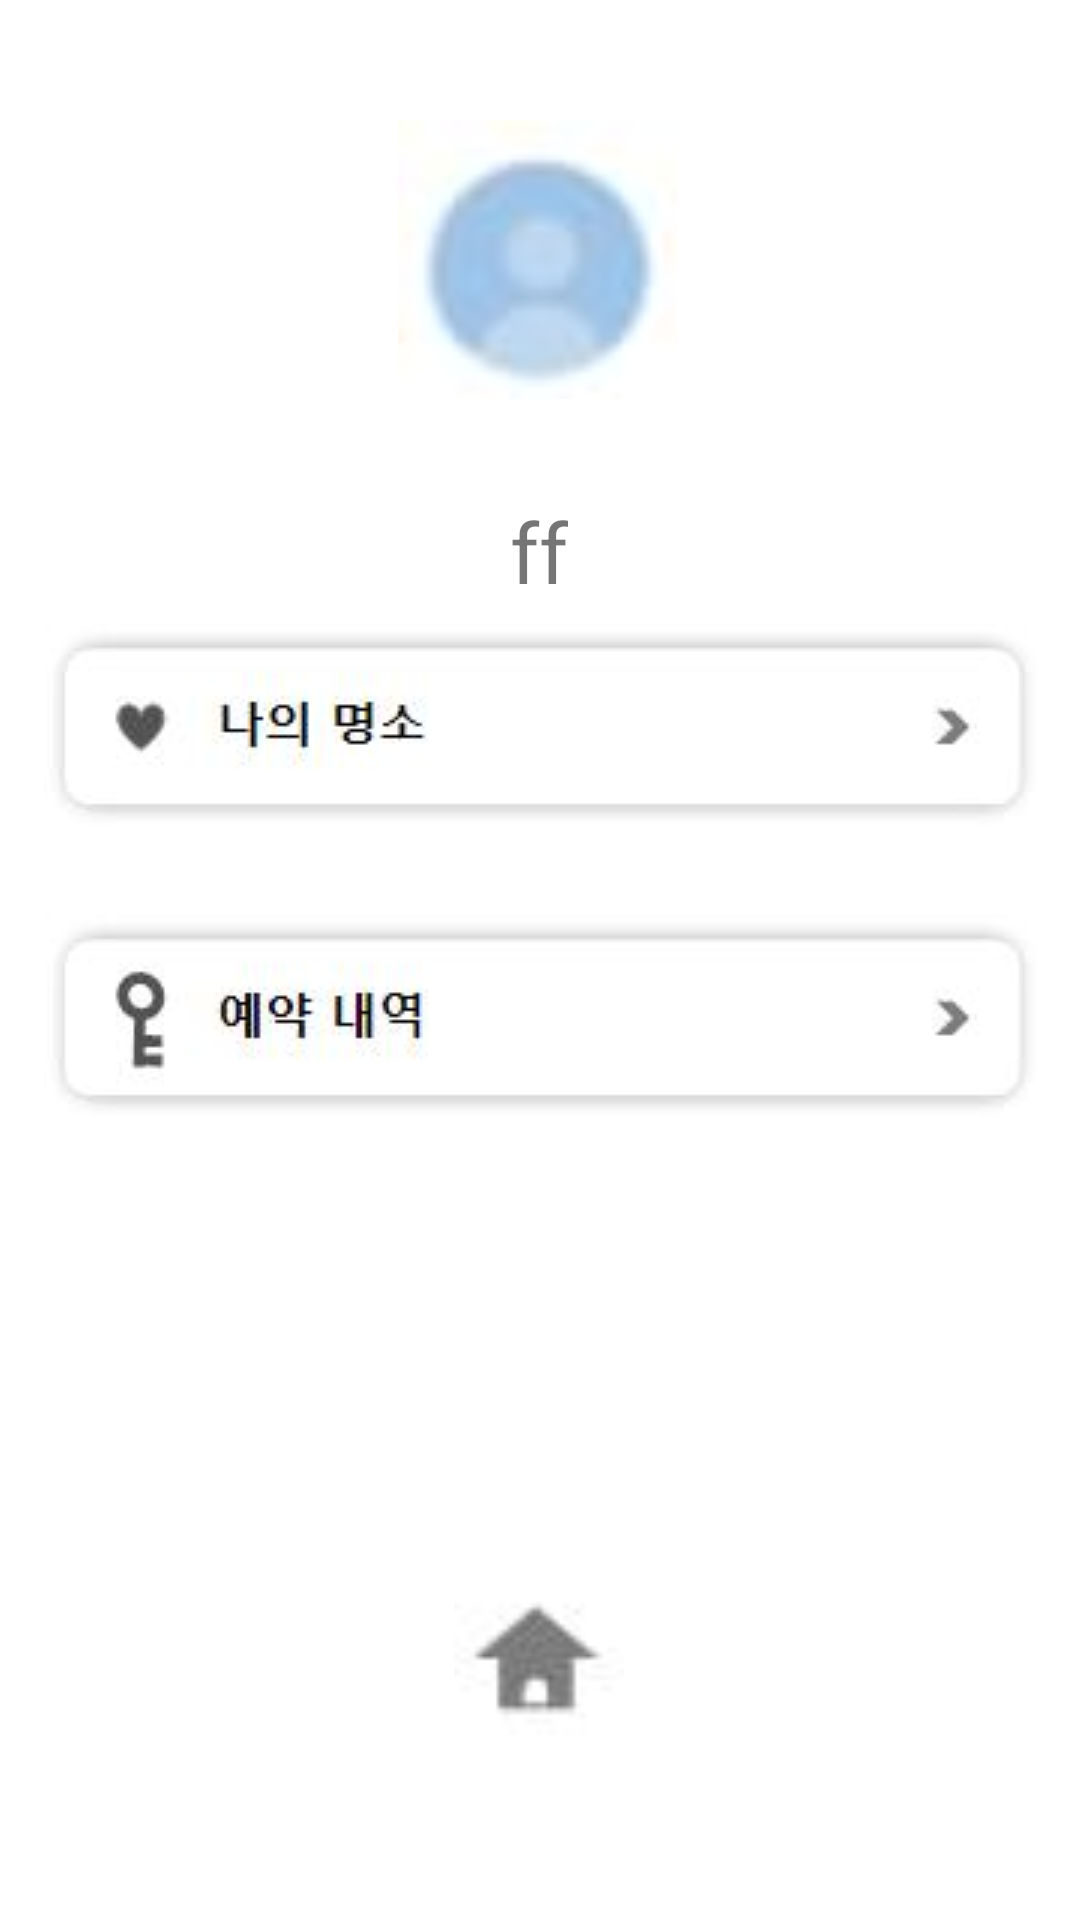

Point at icon controls on the screen. Image size 1080x1920, points as (x,y).
home: (537,1659)
